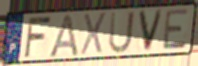A: (46, 12, 80, 59)
E: (161, 7, 191, 51)
F: (23, 15, 53, 59)
U: (107, 10, 136, 55)
V: (137, 8, 165, 53)
X: (79, 11, 108, 57)
